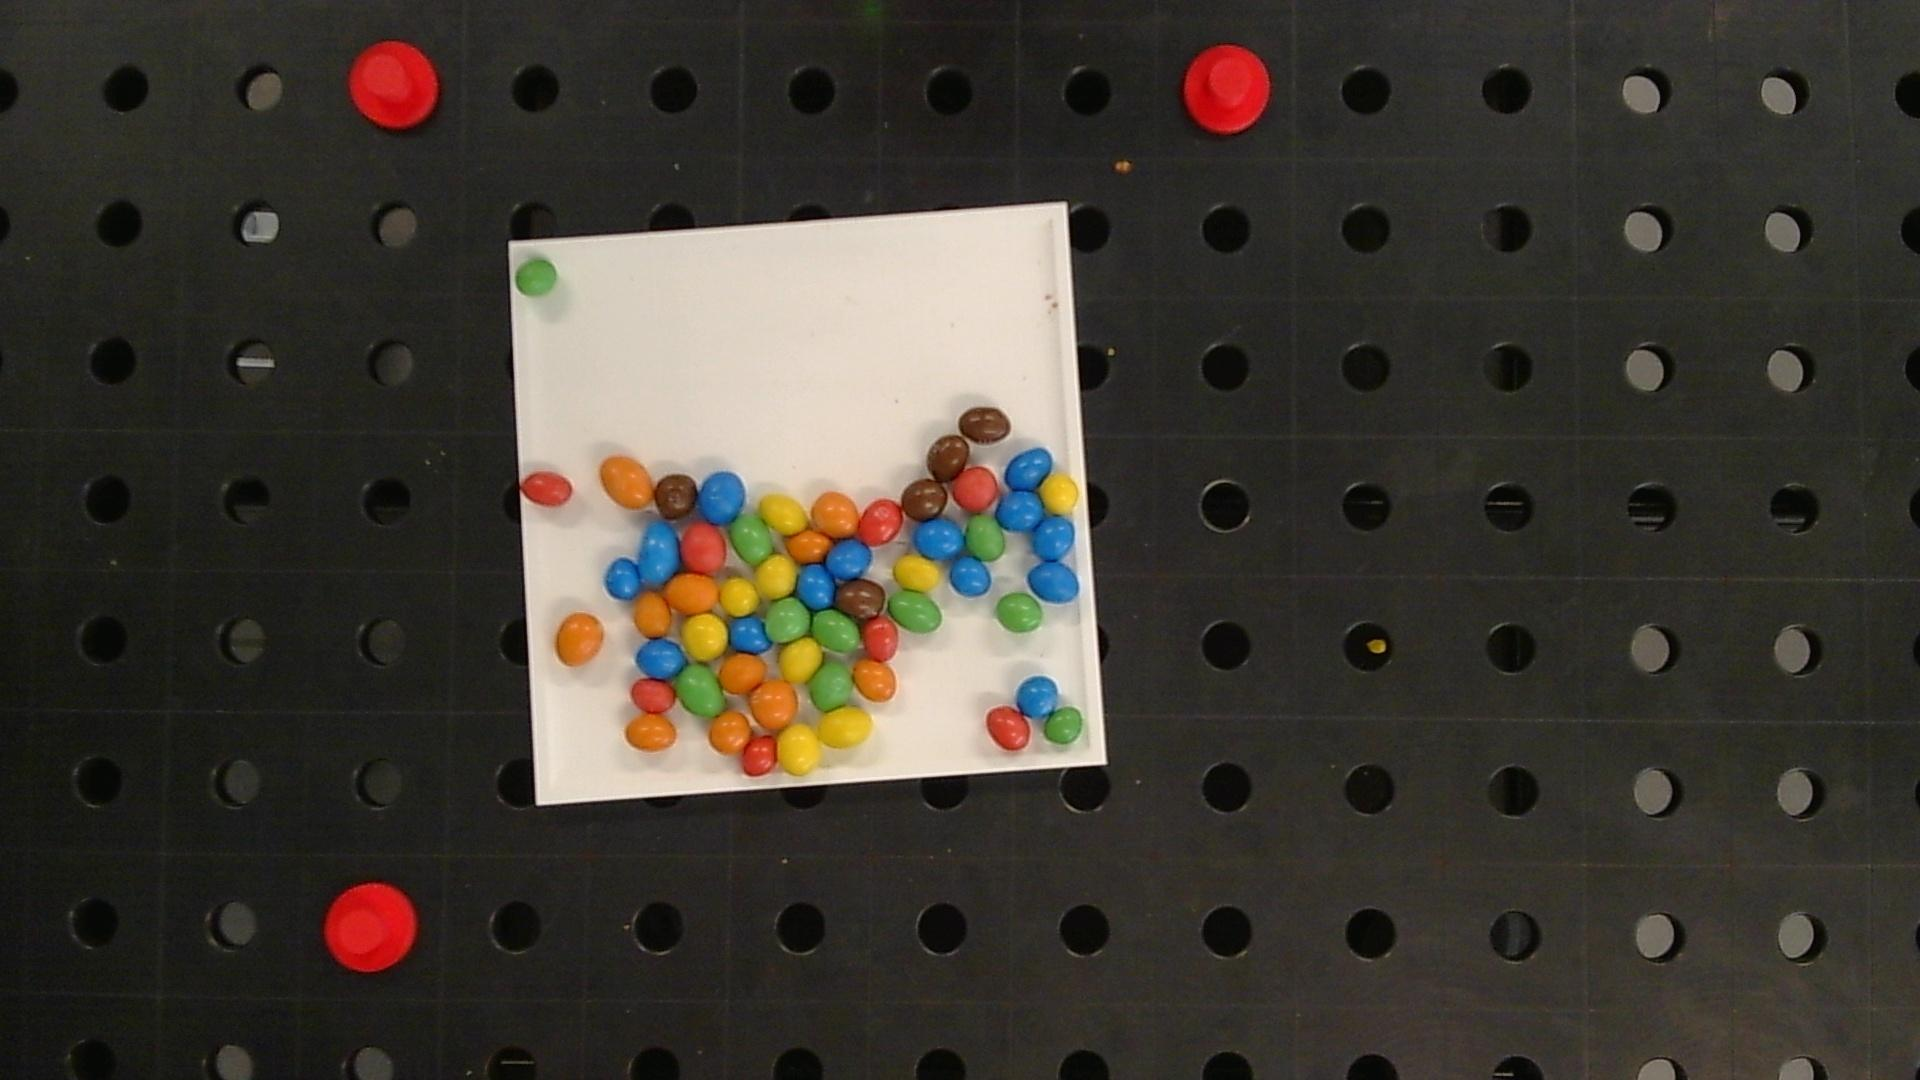blue: (698, 471, 745, 524), (640, 524, 679, 583), (1027, 560, 1080, 603), (1005, 448, 1052, 491), (914, 518, 963, 559), (1033, 516, 1075, 560), (637, 638, 684, 676), (828, 539, 870, 580), (997, 493, 1043, 530), (1017, 676, 1059, 716), (949, 555, 990, 595), (798, 564, 835, 608), (729, 615, 769, 651), (604, 558, 640, 599)
brown: (654, 473, 698, 520), (959, 406, 1011, 443), (902, 477, 947, 520), (928, 435, 968, 483), (837, 579, 884, 618)
green: (676, 663, 724, 716), (887, 591, 943, 633), (729, 514, 773, 563), (810, 661, 853, 709), (812, 609, 860, 651), (766, 599, 810, 642), (996, 593, 1043, 633), (965, 516, 1006, 560), (1043, 707, 1087, 745), (514, 260, 558, 297)
orange: (600, 455, 654, 509), (556, 613, 604, 665), (750, 679, 796, 729), (812, 492, 860, 537), (665, 574, 717, 612), (853, 659, 897, 702), (625, 715, 676, 750), (709, 712, 752, 753), (720, 657, 766, 694), (636, 592, 670, 636), (786, 530, 832, 562)
red: (857, 500, 903, 543), (682, 525, 725, 571), (985, 707, 1031, 749), (952, 468, 998, 510), (520, 472, 574, 506), (862, 620, 898, 661), (632, 679, 675, 712), (741, 737, 777, 775)
yellow: (818, 707, 873, 748), (777, 724, 820, 774), (682, 615, 727, 659), (760, 495, 808, 534), (778, 640, 822, 683), (756, 555, 796, 597), (893, 555, 939, 591), (721, 578, 761, 617), (1040, 475, 1079, 513)
